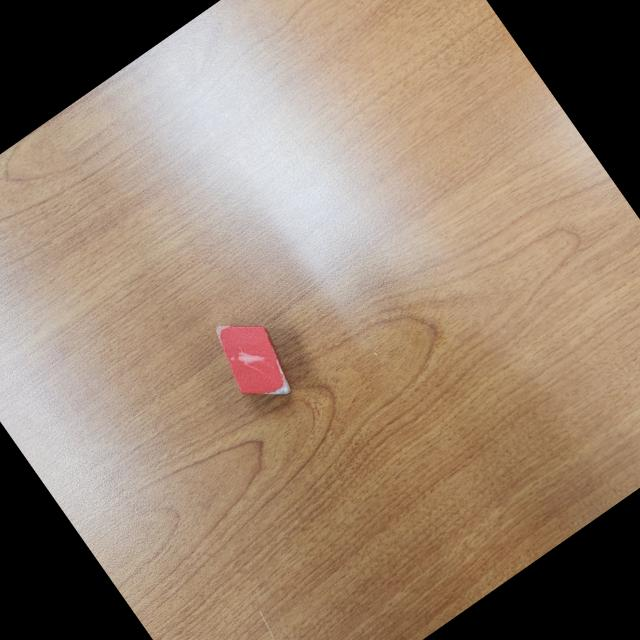broken: (201, 302, 305, 416)
